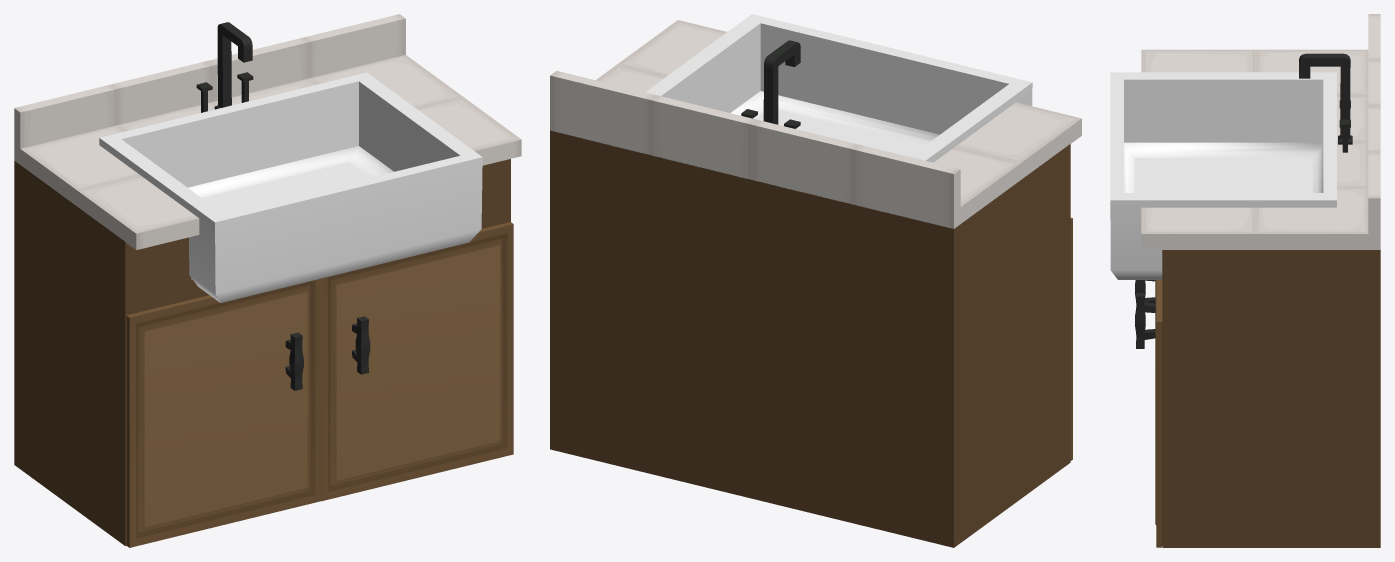
The model's file is SM_Prop_KitchenTabletop_04.obj.
3 views of the same model, side by side, from view 1: azimuth 30°, elevation 25°; view 2: azimuth 150°, elevation 25°; view 3: azimuth 270°, elevation 25° (orthographic). The views are drawn at different scales.
Visible parts, largest first — view 1: SM_Prop_KitchenTabletop_04_Mat_SwatchOverlay_Farm_01_Wood_Inst, SM_Prop_KitchenTabletop_04_Mat_SwatchOverlay_Farm_Main_01_Inst; view 2: SM_Prop_KitchenTabletop_04_Mat_SwatchOverlay_Farm_01_Wood_Inst, SM_Prop_KitchenTabletop_04_Mat_SwatchOverlay_Farm_Main_01_Inst; view 3: SM_Prop_KitchenTabletop_04_Mat_SwatchOverlay_Farm_01_Wood_Inst, SM_Prop_KitchenTabletop_04_Mat_SwatchOverlay_Farm_Main_01_Inst.
Boxes of the visible parts, x1=… form: SM_Prop_KitchenTabletop_04_Mat_SwatchOverlay_Farm_01_Wood_Inst: x1=14, y1=22, x2=513, y2=547; SM_Prop_KitchenTabletop_04_Mat_SwatchOverlay_Farm_Main_01_Inst: x1=14, y1=14, x2=521, y2=249; SM_Prop_KitchenTabletop_04_Mat_SwatchOverlay_Farm_01_Wood_Inst: x1=550, y1=14, x2=1072, y2=547; SM_Prop_KitchenTabletop_04_Mat_SwatchOverlay_Farm_Main_01_Inst: x1=550, y1=20, x2=1081, y2=228; SM_Prop_KitchenTabletop_04_Mat_SwatchOverlay_Farm_01_Wood_Inst: x1=1110, y1=53, x2=1380, y2=547; SM_Prop_KitchenTabletop_04_Mat_SwatchOverlay_Farm_Main_01_Inst: x1=1141, y1=14, x2=1380, y2=249.
Size of the model in its own units: 1.11 by 1.12 by 0.6892.
2 materials, 2 textured.
